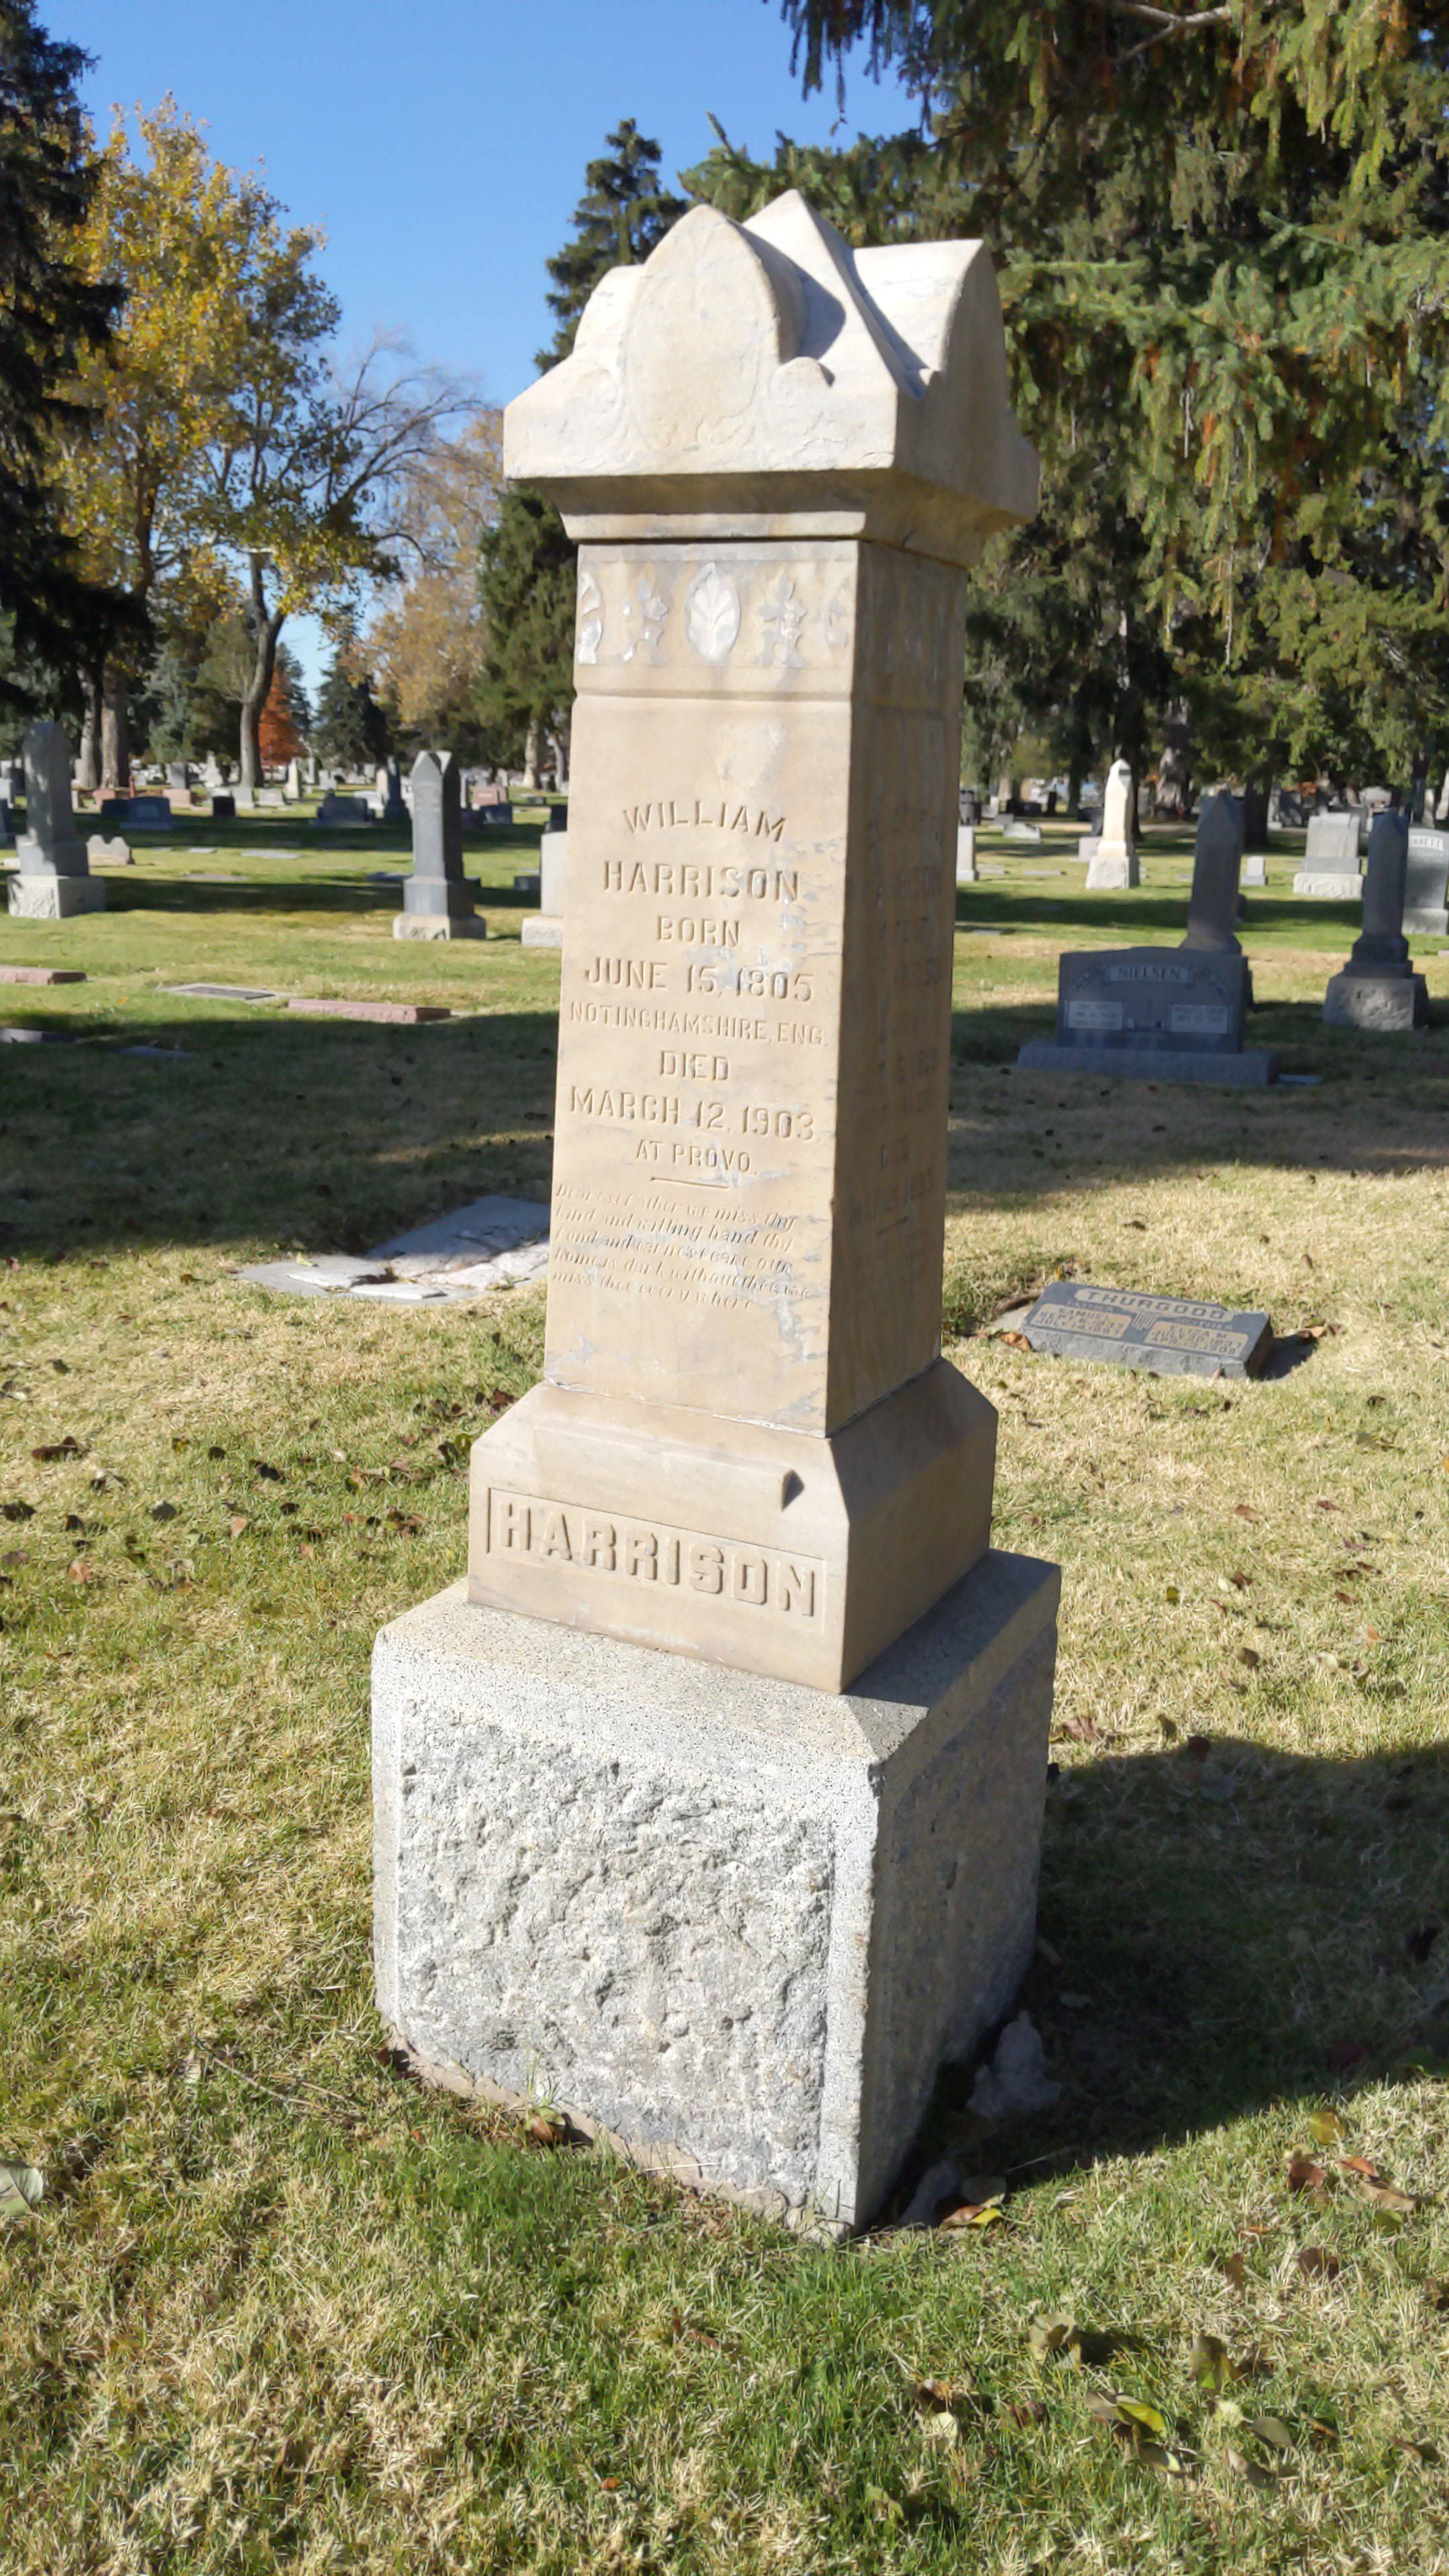obelisk: (469, 186, 993, 1693)
